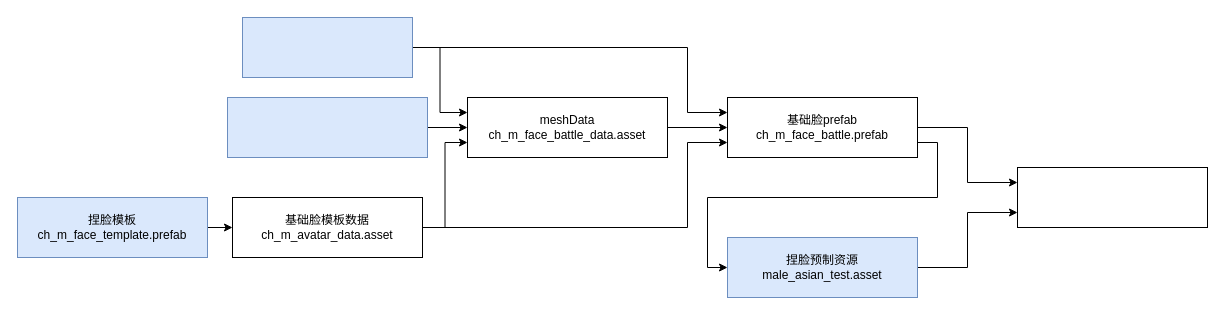
The diagram is 1225 pixels wide and 315 high, and some of its shapes have lost their labels. The box of each missing label's shape, as (x1, y1, x2, y2) in pixels:
捏脸FBX ch_m_face_battle_nielian.FBX: (226, 96, 428, 158)
结果: (1016, 166, 1208, 228)
脸FBX ch_m_face_battle.FBX: (242, 16, 412, 78)
